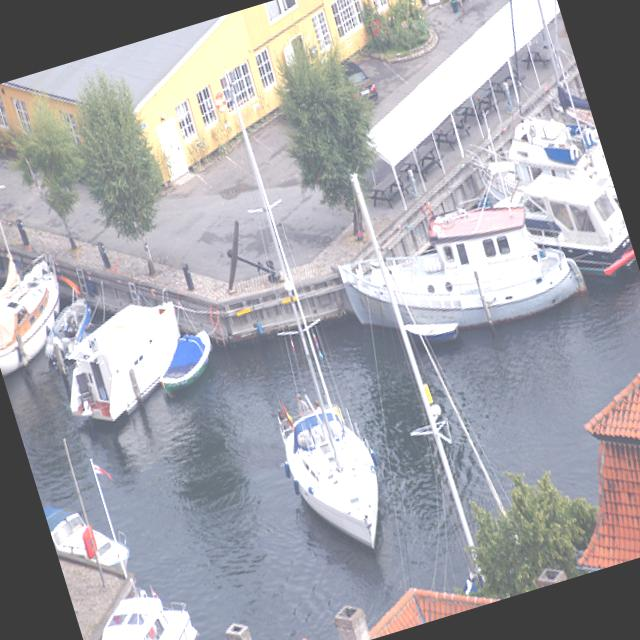Vehicle: (342, 56, 381, 110)
